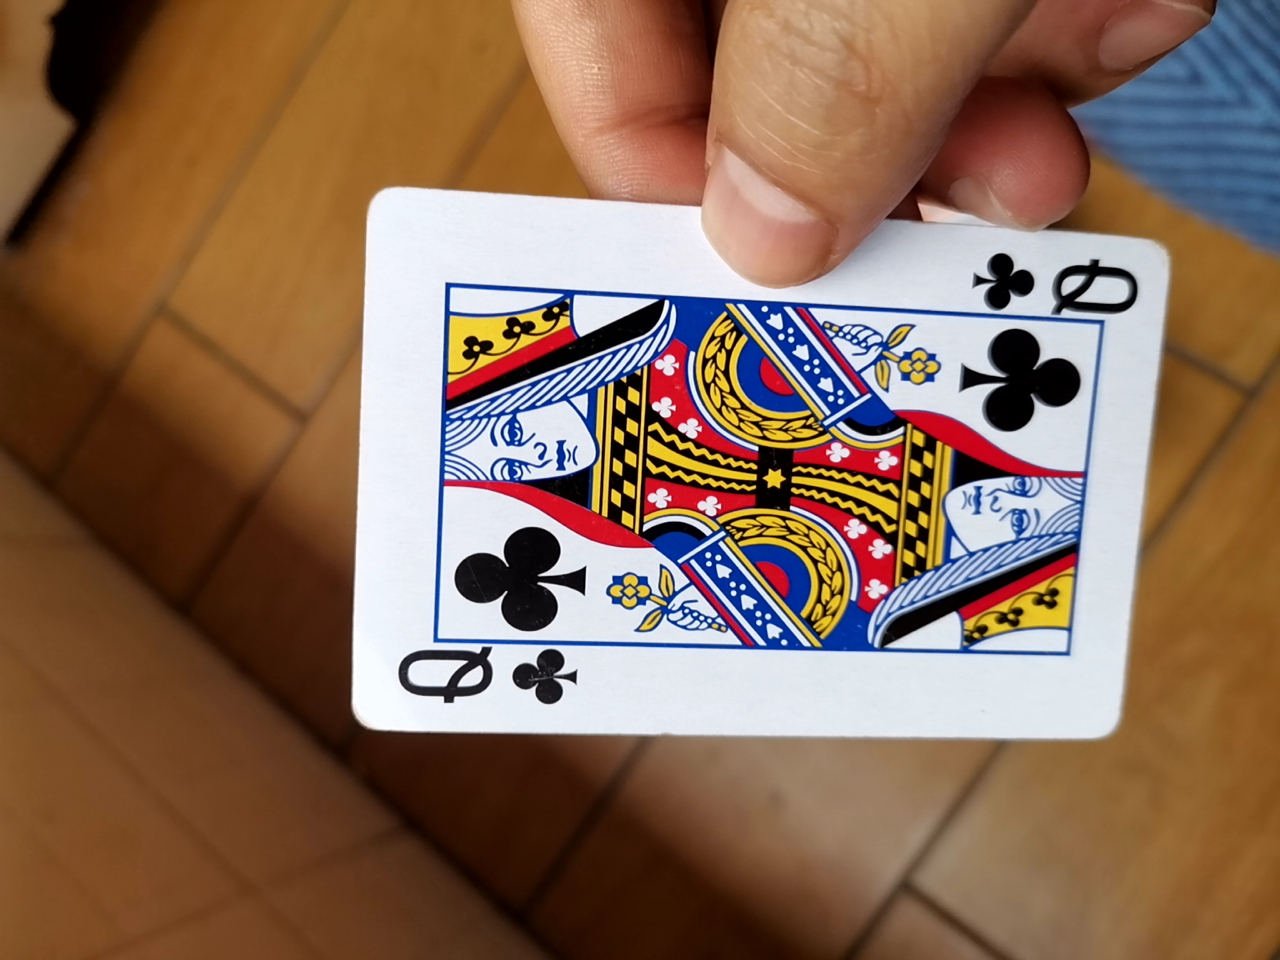mh q: (323, 195, 1157, 750)
